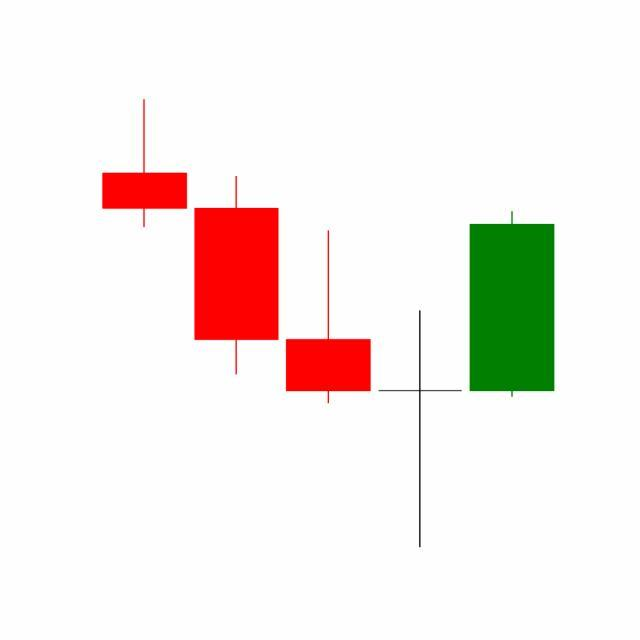Marubozu: (466, 210, 559, 400)
